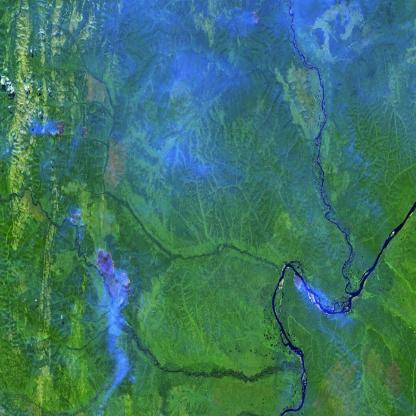fire: (91, 242, 133, 309), (53, 116, 68, 144)
